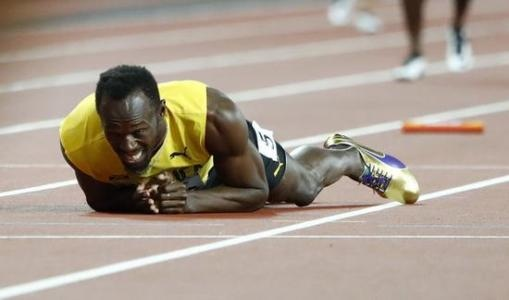falling: (58, 48, 411, 218)
